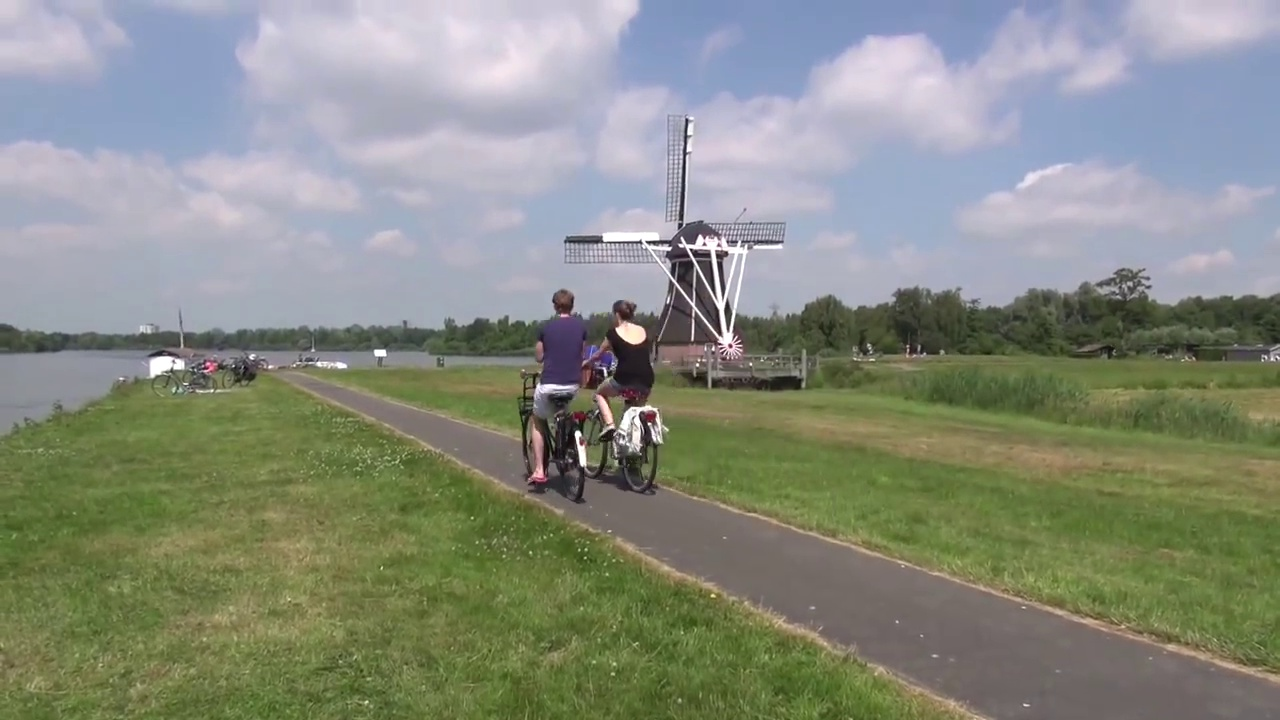cyclist_back: (501, 285, 591, 511), (584, 292, 667, 493)
